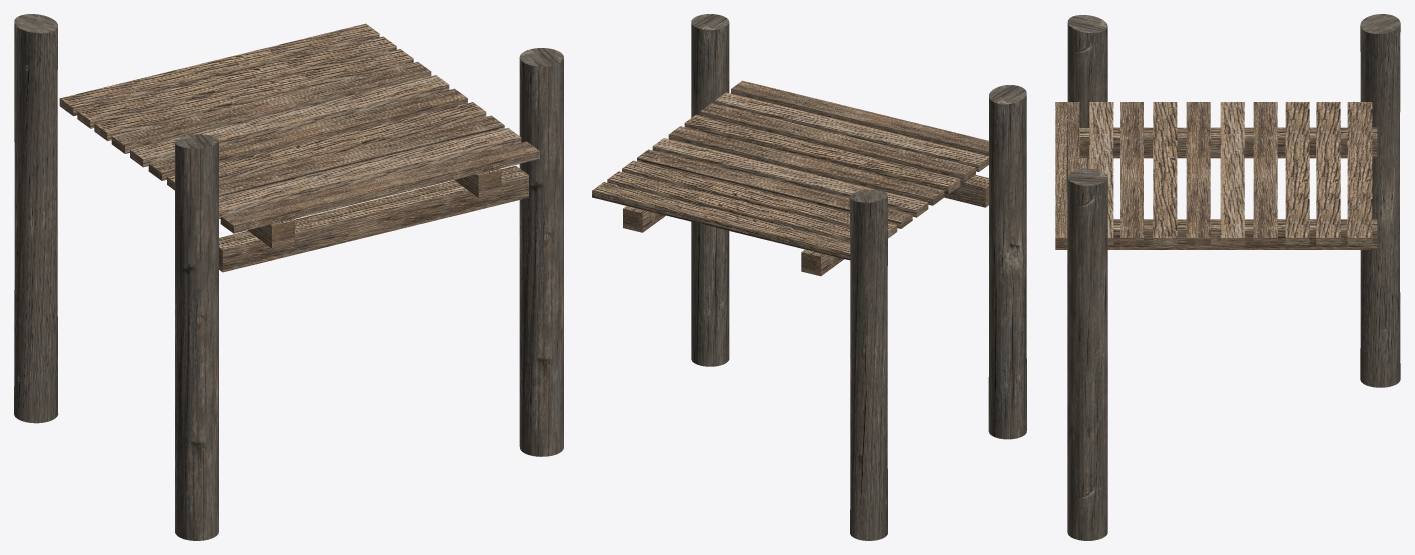
File: muelle.fbx
The picture shows the model from 3 angles, left to right: view 1: azimuth 30°, elevation 25°; view 2: azimuth 150°, elevation 25°; view 3: azimuth 270°, elevation 25°; orthographic projection. The views are drawn at different scales.
Parts seen in each view (by area): view 1: columna, tablas; view 2: tablas, columna; view 3: tablas, columna.
Boxes of the visible parts, x1=… form: columna: x1=14, y1=14, x2=563, y2=540; tablas: x1=59, y1=23, x2=539, y2=248; tablas: x1=592, y1=80, x2=988, y2=276; columna: x1=691, y1=14, x2=1026, y2=540; tablas: x1=1055, y1=102, x2=1377, y2=249; columna: x1=1067, y1=14, x2=1400, y2=540.
Bounding box in the file's own units: 501 × 490 × 429.
2 materials, 2 textured.
